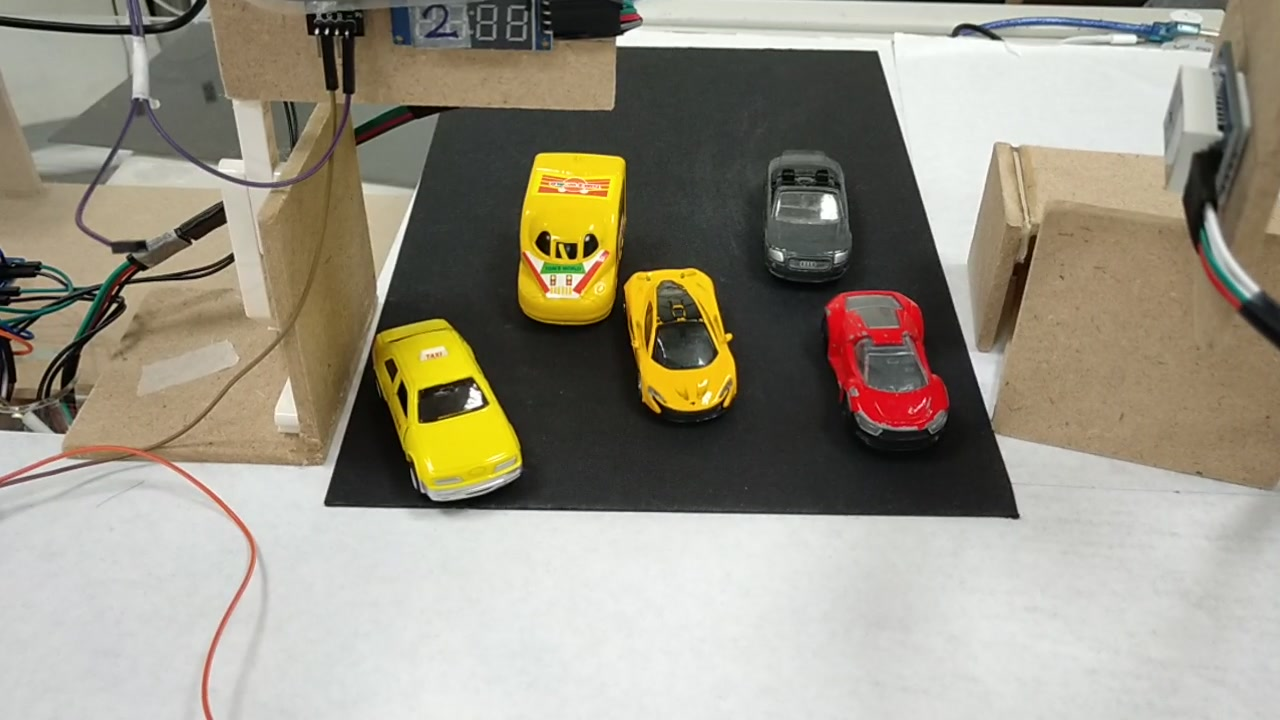car: (366, 332, 523, 502), (814, 295, 950, 450), (616, 263, 742, 417), (759, 153, 848, 287)
